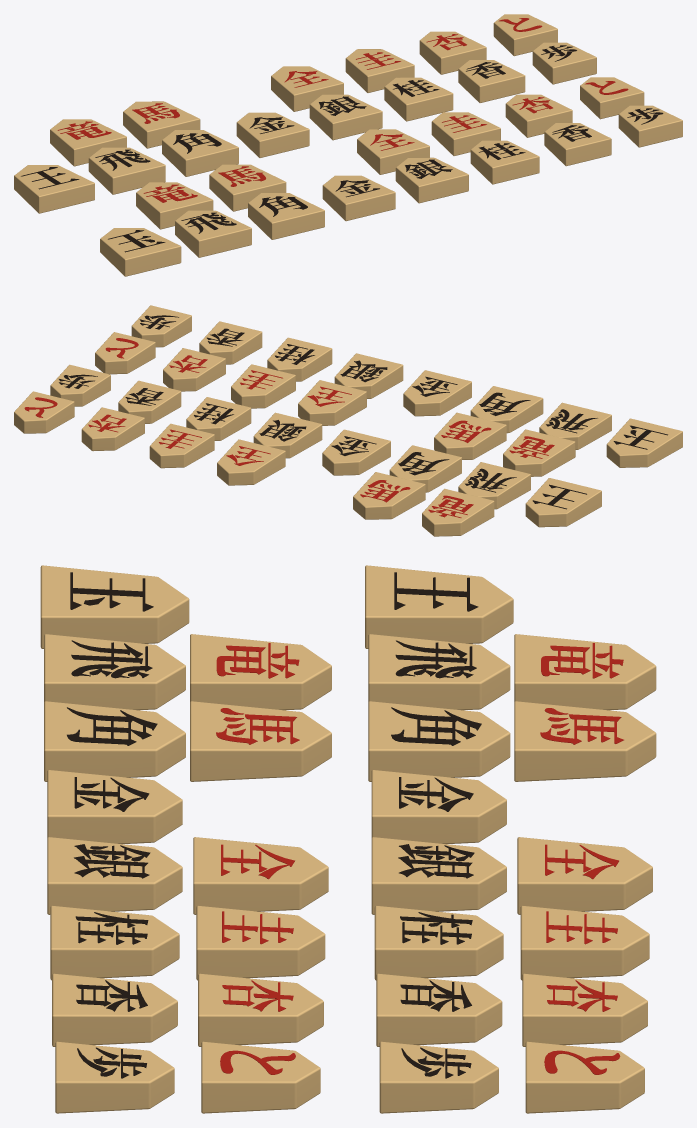
The model's file is collection.glb.
3 renders of one model, top to bottom at view 1: azimuth 30°, elevation 25°; view 2: azimuth 150°, elevation 25°; view 3: azimuth 270°, elevation 25°, orthographic. The views are drawn at different scales.
Parts seen in each view (by area): view 1: Bevelled boxwood wedge, Bevelled boxwood wedge.014, Bevelled boxwood wedge.001, Bevelled boxwood wedge.003, Bevelled boxwood wedge.015, Bevelled boxwood wedge.017, Bevelled boxwood wedge.005, Bevelled boxwood wedge.019, Bevelled boxwood wedge.006, Bevelled boxwood wedge.020, Bevelled boxwood wedge.004, Bevelled boxwood wedge.018 (+24 smaller); view 2: Bevelled boxwood wedge.014, Bevelled boxwood wedge, Bevelled boxwood wedge.018, Bevelled boxwood wedge.016, Bevelled boxwood wedge.021, Bevelled boxwood wedge.019, Bevelled boxwood wedge.002, Bevelled boxwood wedge.004, Bevelled boxwood wedge.005, Bevelled boxwood wedge.007, Bevelled boxwood wedge.023, Bevelled boxwood wedge.009 (+26 smaller); view 3: Bevelled boxwood wedge, Bevelled boxwood wedge.014, Bevelled boxwood wedge.018, Bevelled boxwood wedge.004, Bevelled boxwood wedge.017, Bevelled boxwood wedge.021, Bevelled boxwood wedge.003, Bevelled boxwood wedge.007, Bevelled boxwood wedge.002, Bevelled boxwood wedge.016, Bevelled boxwood wedge.015, Bevelled boxwood wedge.001 (+40 smaller).
Boxes of the visible parts, <box> form: Bevelled boxwood wedge: <box>100,228,181,276</box>; Bevelled boxwood wedge.014: <box>14,165,94,213</box>; Bevelled boxwood wedge.001: <box>175,210,251,257</box>; Bevelled boxwood wedge.003: <box>248,193,324,239</box>; Bevelled boxwood wedge.015: <box>88,147,165,194</box>; Bevelled boxwood wedge.017: <box>162,130,238,176</box>; Bevelled boxwood wedge.005: <box>322,175,395,221</box>; Bevelled boxwood wedge.019: <box>236,112,309,157</box>; Bevelled boxwood wedge.006: <box>395,157,468,203</box>; Bevelled boxwood wedge.020: <box>309,94,382,140</box>; Bevelled boxwood wedge.004: <box>209,164,286,211</box>; Bevelled boxwood wedge.018: <box>123,101,200,148</box>; Bevelled boxwood wedge.014: <box>525,478,601,527</box>; Bevelled boxwood wedge: <box>606,418,682,467</box>; Bevelled boxwood wedge.018: <box>353,472,425,519</box>; Bevelled boxwood wedge.016: <box>422,488,494,536</box>; Bevelled boxwood wedge.021: <box>217,439,285,485</box>; Bevelled boxwood wedge.019: <box>322,429,390,475</box>; Bevelled boxwood wedge.002: <box>503,429,575,476</box>; Bevelled boxwood wedge.004: <box>434,412,506,459</box>; Bevelled boxwood wedge.005: <box>403,370,471,416</box>; Bevelled boxwood wedge.007: <box>298,380,366,425</box>; Bevelled boxwood wedge.023: <box>149,423,214,468</box>; Bevelled boxwood wedge.009: <box>231,364,295,408</box>; Bevelled boxwood wedge: <box>40,565,189,648</box>; Bevelled boxwood wedge.014: <box>365,565,513,648</box>; Bevelled boxwood wedge.018: <box>514,701,656,781</box>; Bevelled boxwood wedge.004: <box>190,701,331,781</box>; Bevelled boxwood wedge.017: <box>368,701,510,781</box>; Bevelled boxwood wedge.021: <box>517,837,652,914</box>; Bevelled boxwood wedge.003: <box>44,701,185,781</box>; Bevelled boxwood wedge.007: <box>193,837,328,914</box>; Bevelled boxwood wedge.002: <box>190,634,331,710</box>; Bevelled boxwood wedge.016: <box>514,634,656,710</box>; Bevelled boxwood wedge.015: <box>368,634,510,710</box>; Bevelled boxwood wedge.001: <box>44,634,185,710</box>.
Size of the model in its own units: 0.3769 by 0.0112 by 0.1898.
